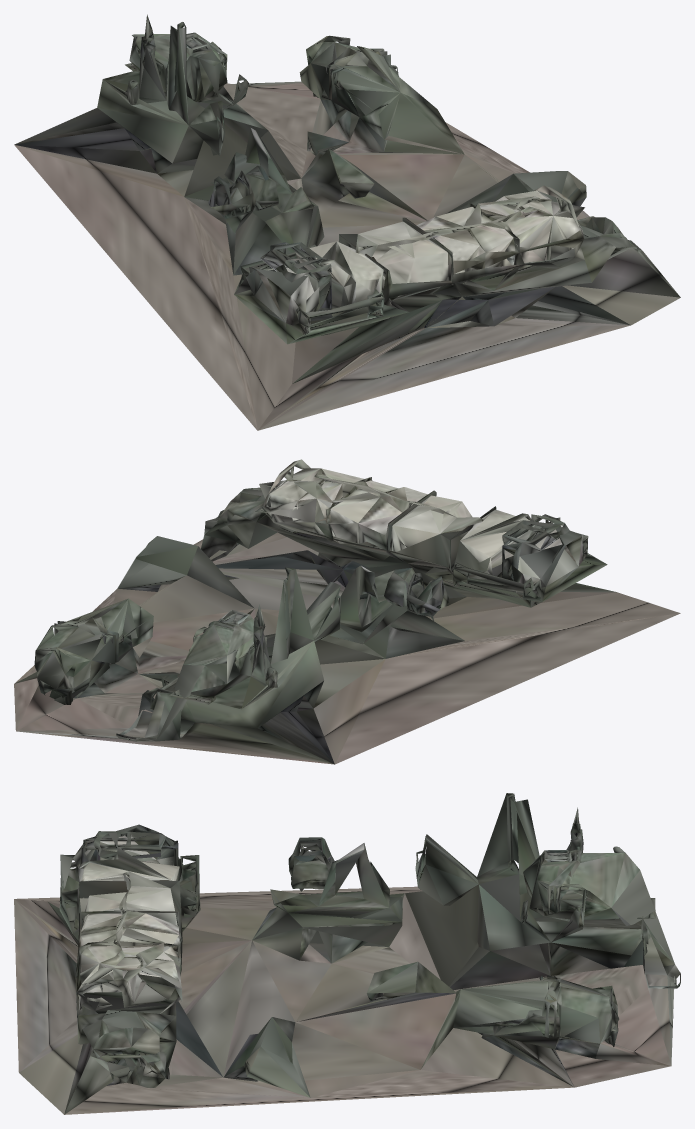
File: t243_hub_lod1.glb
3 views of the same model, one above another, from view 1: azimuth 30°, elevation 25°; view 2: azimuth 150°, elevation 25°; view 3: azimuth 270°, elevation 25° (orthographic). The views are drawn at different scales.
Bounding box in the file's own units: 11.84 × 4.71 × 15.
Materials: 1 (1 with a texture image).
